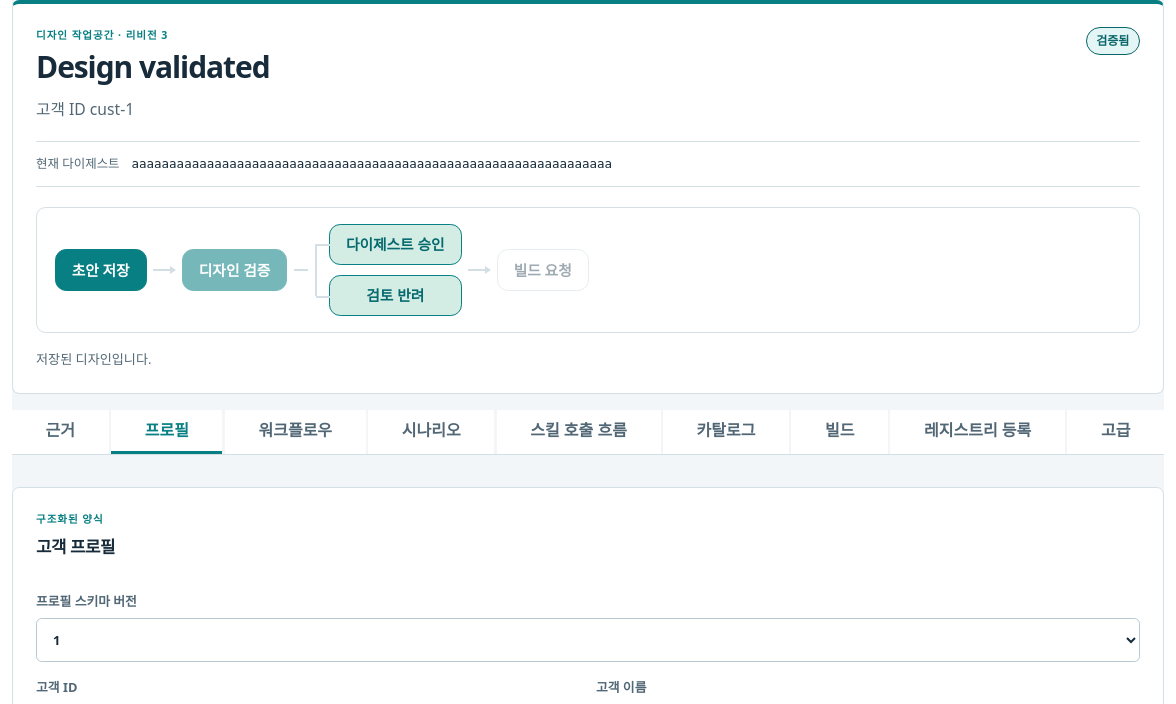
Test: StudioDesignPageContent › submits approval against the exact current digest
Check: the heading "Design validated" is shown, box [36,50,270,83]
Click the button "다이제스트 승인". click: (395, 244)
box: [329,224,462,265]
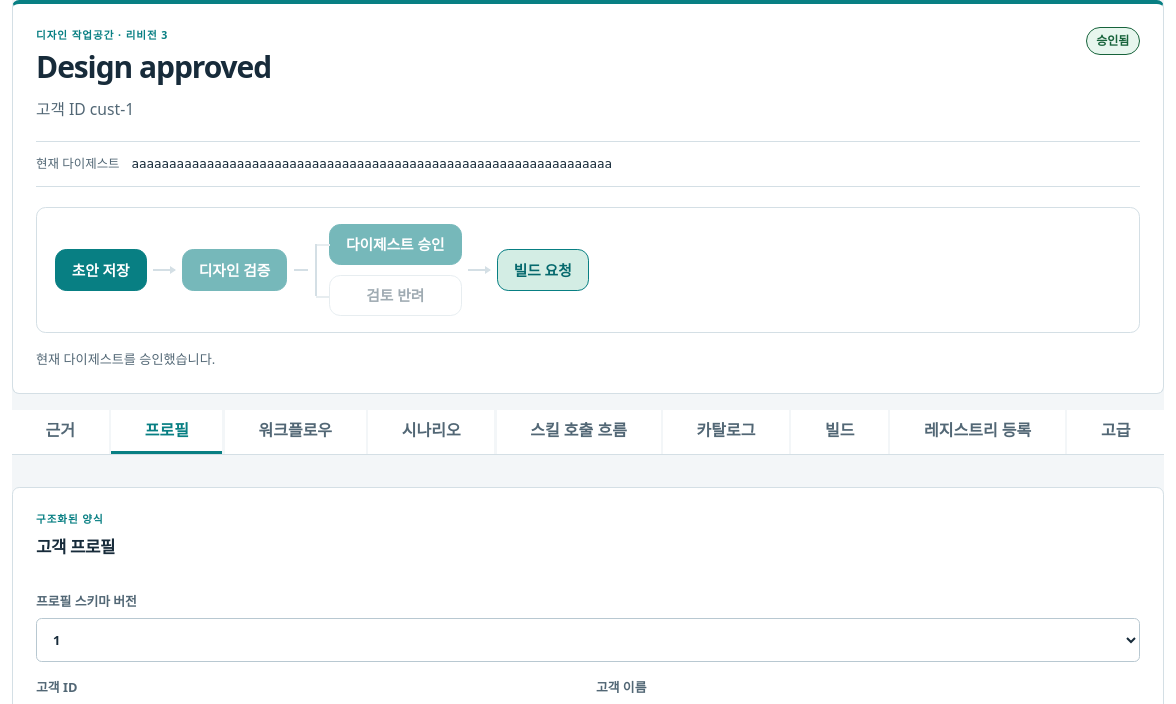
Check: the text "승인됨" is shown, box [1086,27,1140,55]
